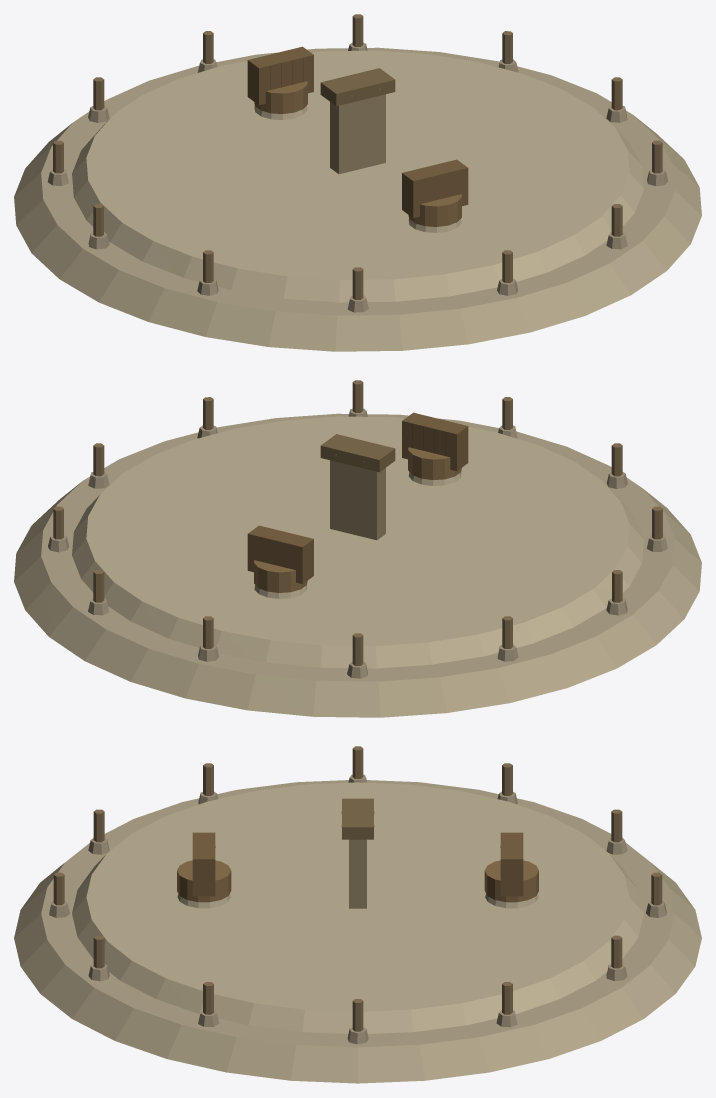
File: mingjia.glb
The picture shows the model from 3 angles, top to bottom: view 1: azimuth 30°, elevation 25°; view 2: azimuth 150°, elevation 25°; view 3: azimuth 270°, elevation 25°; orthographic projection.
Parts seen in each view (by area): view 1: mingjia; view 2: mingjia; view 3: mingjia.
Part boxes in pixels (x1=…): mingjia: x1=14, y1=14, x2=701, y2=351; mingjia: x1=14, y1=380, x2=701, y2=717; mingjia: x1=14, y1=746, x2=701, y2=1083.
Bounding box in the file's own units: 14 × 2.81 × 14.
